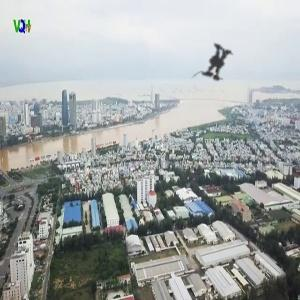drone: (173, 15, 267, 109)
